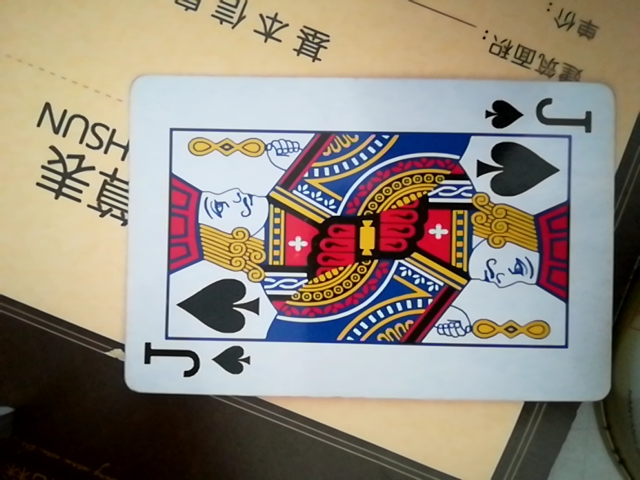ht j: (119, 77, 605, 405)
